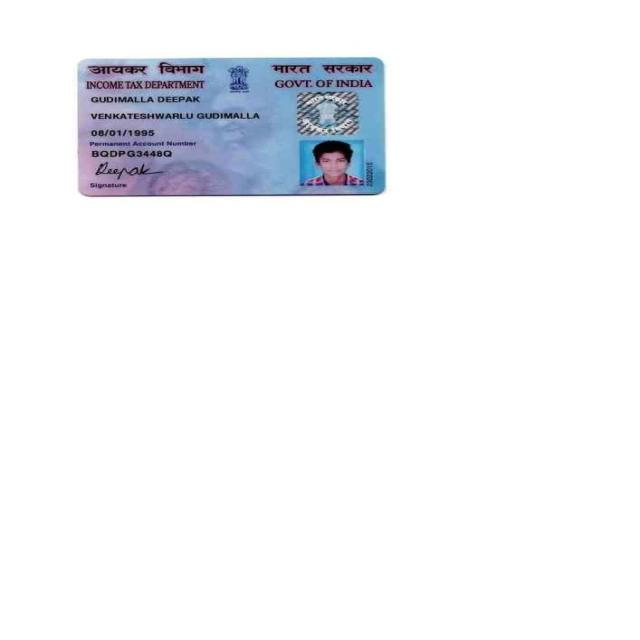pan_card: (74, 56, 386, 198)
